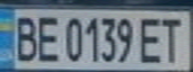0: (60, 12, 84, 62)
1: (81, 14, 100, 63)
3: (97, 14, 118, 63)
9: (115, 14, 139, 63)
B: (9, 11, 42, 63)
E: (33, 11, 63, 63), (136, 13, 166, 64)
T: (157, 13, 190, 64)
